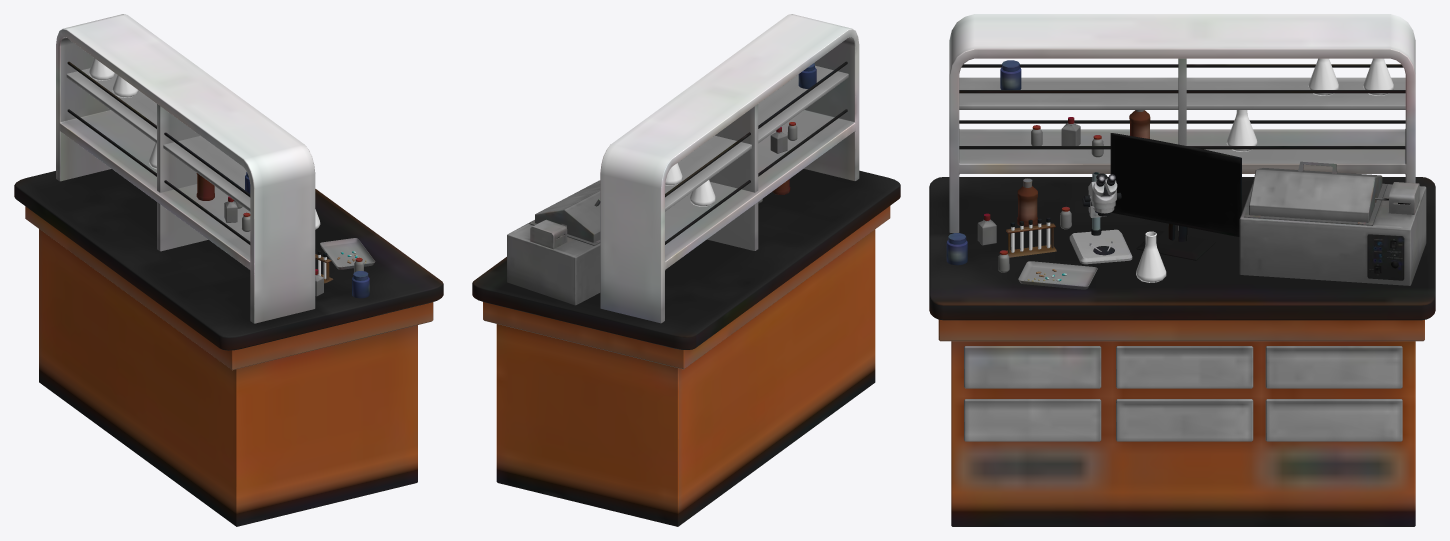
The model's file is SM_MedicineFacilityElectric_023af6.glb.
3 renders of one model, left to right at view 1: azimuth 30°, elevation 25°; view 2: azimuth 150°, elevation 25°; view 3: azimuth 270°, elevation 25°, orthographic. The views are drawn at different scales.
Bounding box in the file's own units: 1.14 × 1.74 × 1.91.
2 materials, 1 textured.
